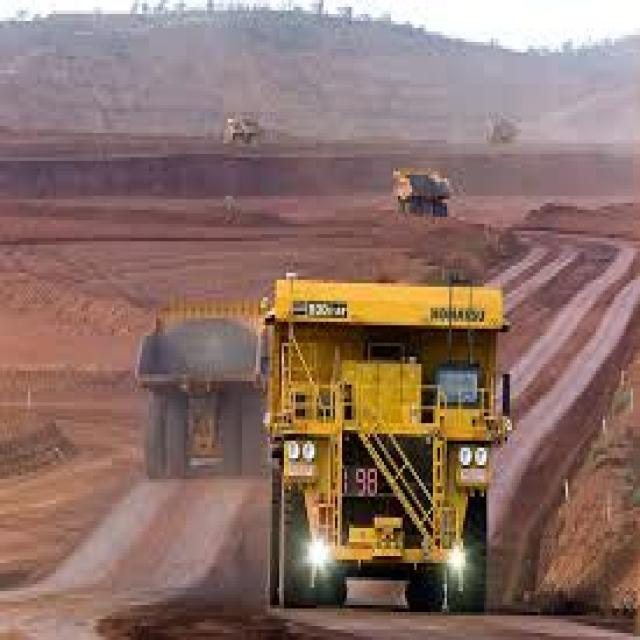dump_truck: (242, 252, 528, 615), (130, 258, 272, 504), (384, 133, 454, 231)
